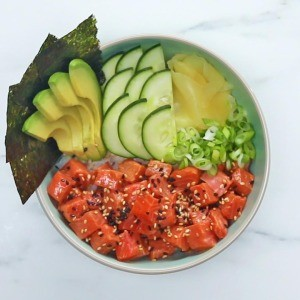salmon_brain food: (79, 170, 221, 244)
